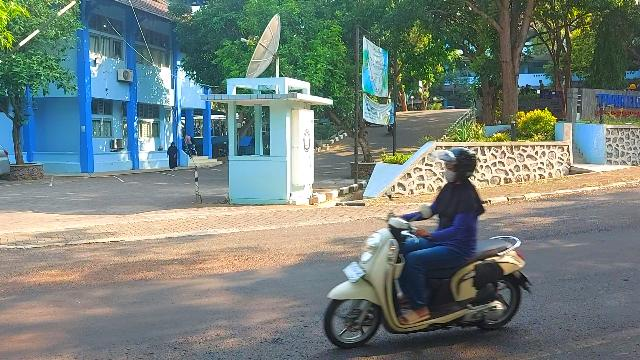helm: (433, 149, 477, 184)
motor: (325, 208, 534, 350)
